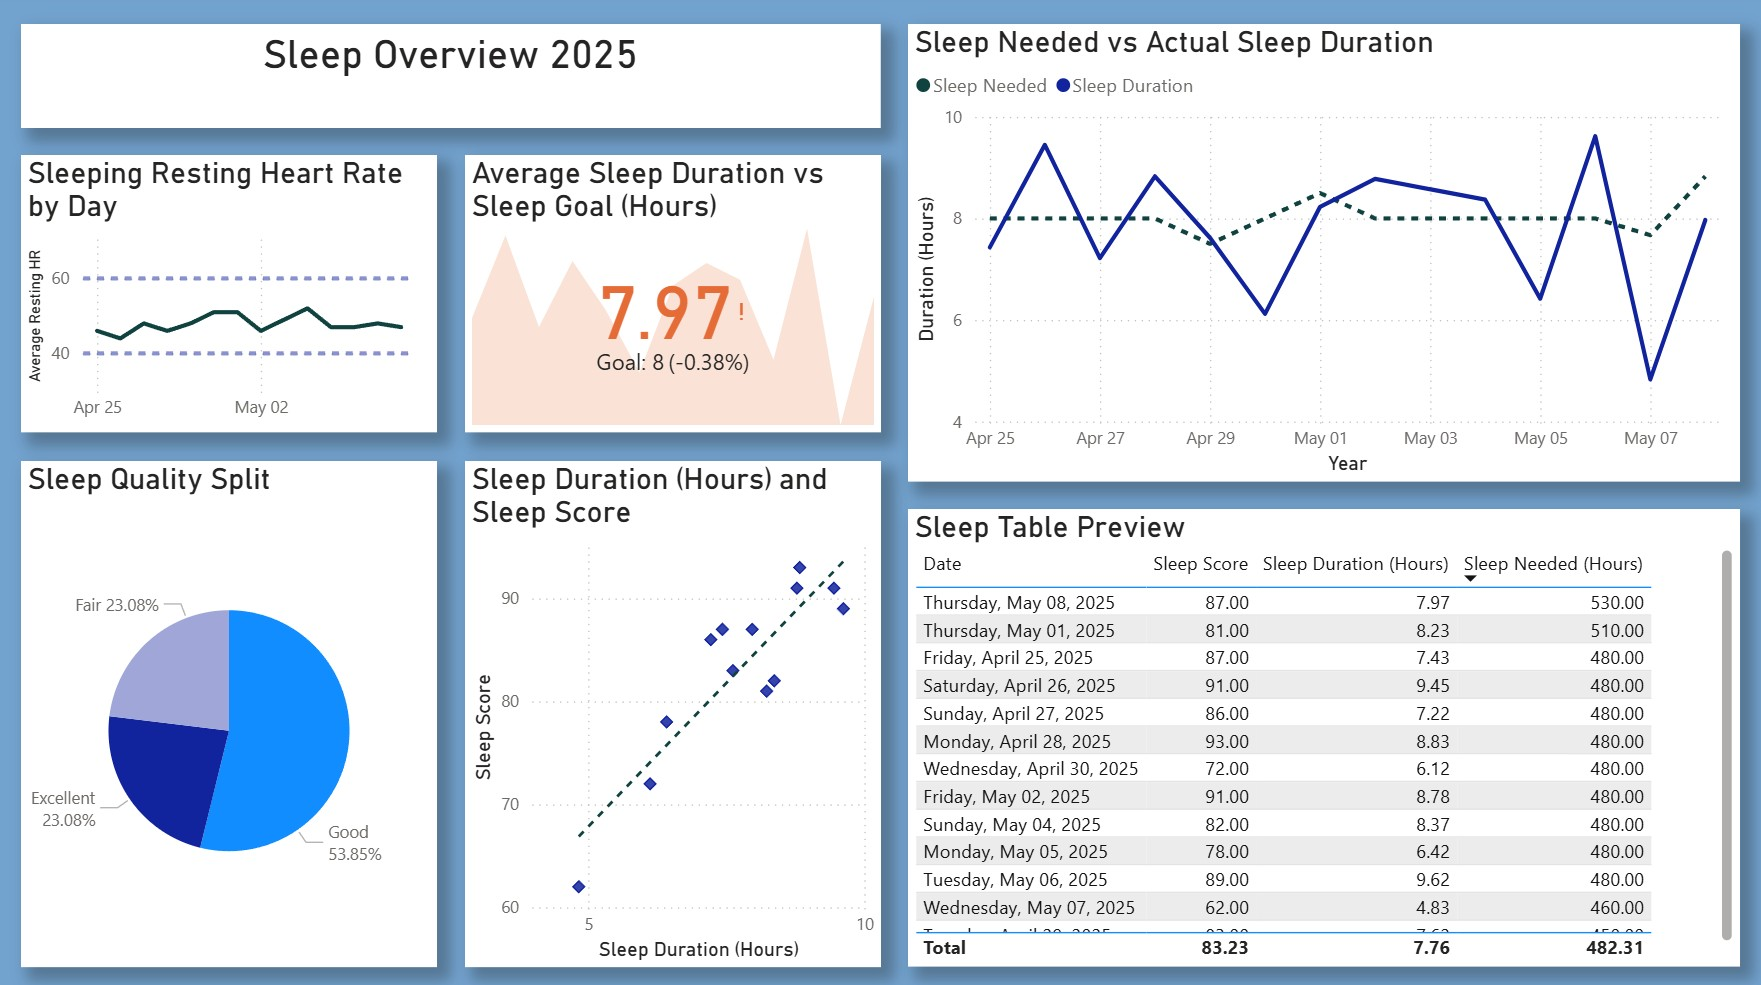

Layout of this report page (visuals, bound fields, positions):
{"tool":"powerbi","page":{"name":"Sleep","canvas":[1280,720],"ordinal":1},"visuals":[{"type":"lineChart","title":"Sleep Needed vs Actual Sleep Duration","fields":{"Category":["sleep.entry_date.Variation.Date Hierarchy.Year","sleep.entry_date.Variation.Date Hierarchy.Month","sleep.entry_date.Variation.Date Hierarchy.Day"],"Y":["Sum(sleep.sleep_need_hours)","Sum(sleep.duration_hours)"]},"box":[660,20.2,600,330],"z":0},{"type":"tableEx","title":"Sleep Table Preview","fields":{"Values":["sleep.entry_date","Avg(sleep.sleep_score)","Avg(sleep.duration_hours)","Avg(sleep.sleep_need_min)"]},"box":[660,370,600,330.3],"z":1000},{"type":"pieChart","title":"Sleep Quality Split","fields":{"Category":["sleep.quality"],"Y":["CountNonNull(sleep.quality)"]},"box":[20.2,335.3,300,365],"z":2000},{"type":"scatterChart","fields":{"X":["sleep.duration_hours"],"Y":["sleep.sleep_score"]},"box":[340.4,335.3,300,364.9],"z":3000},{"type":"kpi","title":"Average Sleep Duration vs Sleep Goal (Hours)","fields":{"Indicator":["Avg(sleep.duration_hours)"],"TrendLine":["sleep.entry_date"],"Goal":["sleep.Sleep Goal"]},"box":[340.4,114.7,300,199.8],"z":4000},{"type":"lineChart","title":"Sleeping Resting Heart Rate by Day","fields":{"Y":["Avg(sleep.resting_heart_rate)"],"Category":["sleep.entry_date.Variation.Date Hierarchy.Year","sleep.entry_date.Variation.Date Hierarchy.Quarter","sleep.entry_date.Variation.Date Hierarchy.Month","sleep.entry_date.Variation.Date Hierarchy.Day"]},"box":[20.2,115,300,200.5],"z":5000},{"type":"textbox","box":[20,20,620,75],"z":6000}]}

Visuals, with their boxes in screenshot pixels (x1, y1, x2, y2), scaled from the page's 1280x720 canvas onto the 1761x985 screenshot:
"Sleep Needed vs Actual Sleep Duration" lineChart: (908, 28, 1733, 479)
"Sleep Table Preview" tableEx: (908, 506, 1733, 958)
"Sleep Quality Split" pieChart: (28, 459, 441, 958)
scatterChart - sleep.duration_hours x sleep.sleep_score: (468, 459, 881, 958)
"Average Sleep Duration vs Sleep Goal (Hours)" kpi: (468, 157, 881, 430)
"Sleeping Resting Heart Rate by Day" lineChart: (28, 157, 441, 432)
textbox: (28, 27, 880, 130)
